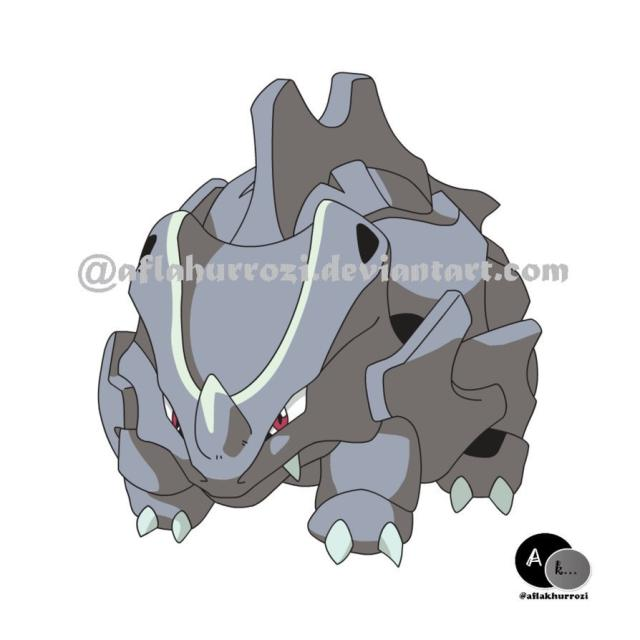Rhyhorn: (118, 121, 537, 552)
